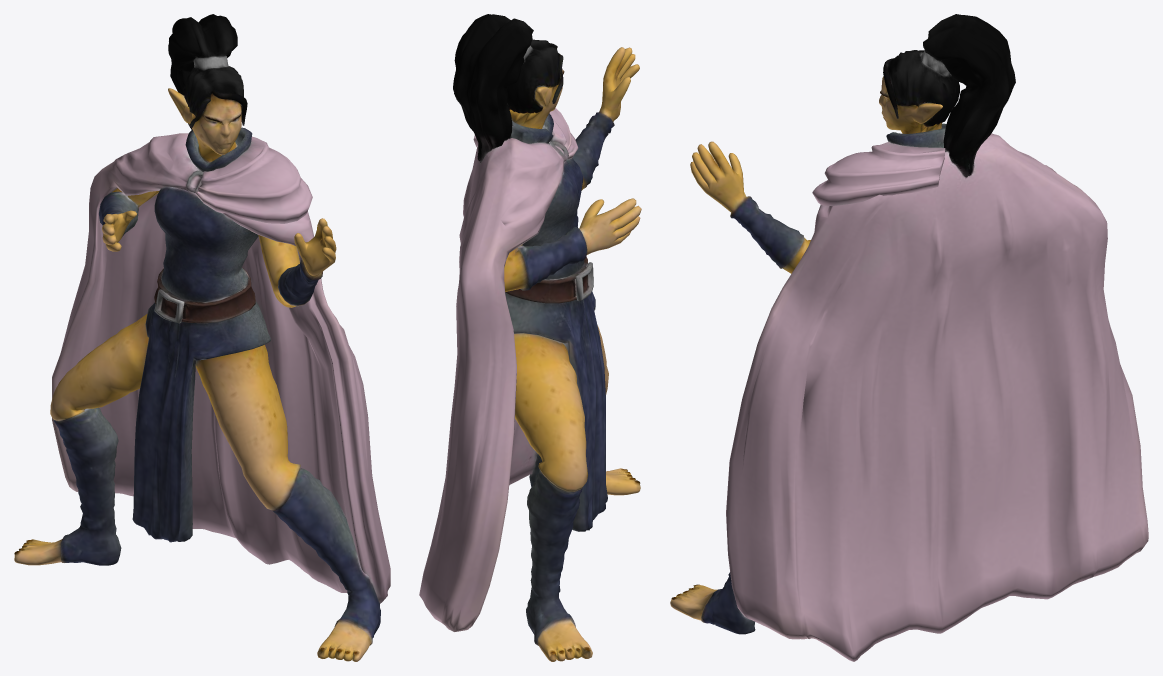
Rendered from MZ4250 - Githzerai Anarch.glb.
3 views of the same model, side by side, from view 1: azimuth 30°, elevation 25°; view 2: azimuth 150°, elevation 25°; view 3: azimuth 270°, elevation 25° (orthographic). The views are drawn at different scales.
Parts seen in each view (by area): view 1: default; view 2: default; view 3: default.
Part boxes in pixels (left/top/right/bottom): default: left=14, top=14, right=390, bottom=661; default: left=419, top=14, right=641, bottom=661; default: left=670, top=14, right=1148, bottom=661.
Size of the model in its own units: 0.5278 by 1.17 by 0.8583.
Materials: 1 (1 with a texture image).
